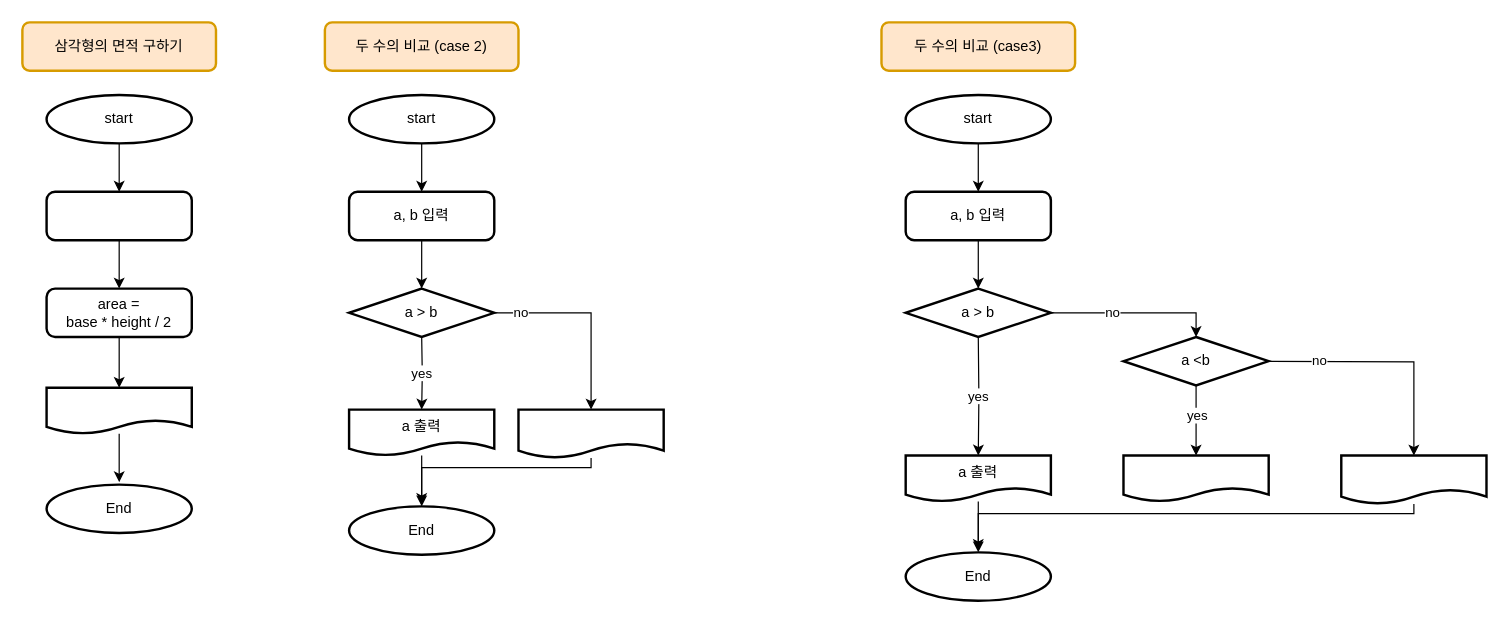
Image size: 1508x622. Some labels were removed from this diagram. Here are the shapes that lost their labels. From the top down, the centre of each, then its label:
the point at 118,215: base, height 입력
the point at 118,410: area
the point at 590,433: b 출력
the point at 1195,478: b를 출력
the point at 1413,479: a = b 출력
